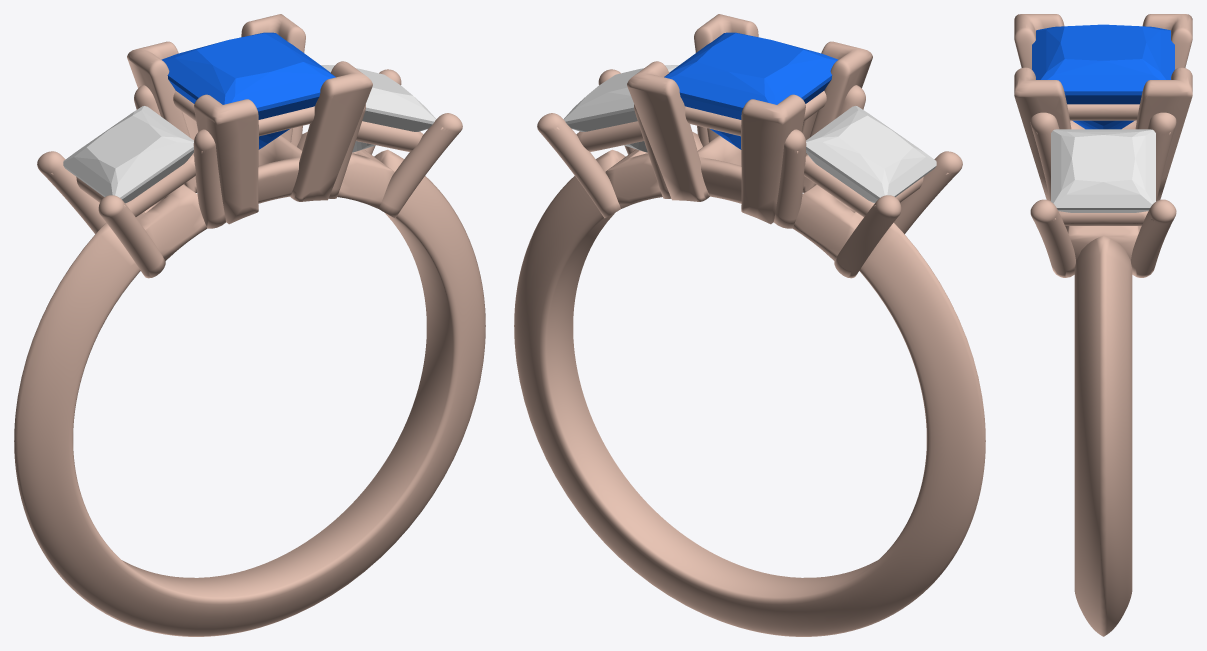
Rendered from bluesapphire-princess-rosegold-protectededges4prongs-knifeedge-3stone.glb.
The picture shows the model from 3 angles, left to right: view 1: azimuth 30°, elevation 25°; view 2: azimuth 150°, elevation 25°; view 3: azimuth 270°, elevation 25°; orthographic projection.
Parts seen in each view (by area): view 1: metal, stone, side.001, side; view 2: metal, stone, side.001, side; view 3: metal, stone, side.
Boxes of the visible parts, x1,y1,x2,y2 form: metal: (14, 14, 485, 636); stone: (161, 32, 335, 149); side.001: (63, 106, 193, 203); side: (321, 65, 436, 152); metal: (514, 14, 985, 636); stone: (664, 32, 838, 149); side.001: (806, 106, 936, 203); side: (563, 65, 678, 152); metal: (1014, 14, 1192, 636); stone: (1032, 24, 1174, 129); side: (1051, 129, 1155, 212).
Size of the model in its own units: 20.49 by 23.85 by 6.77.
